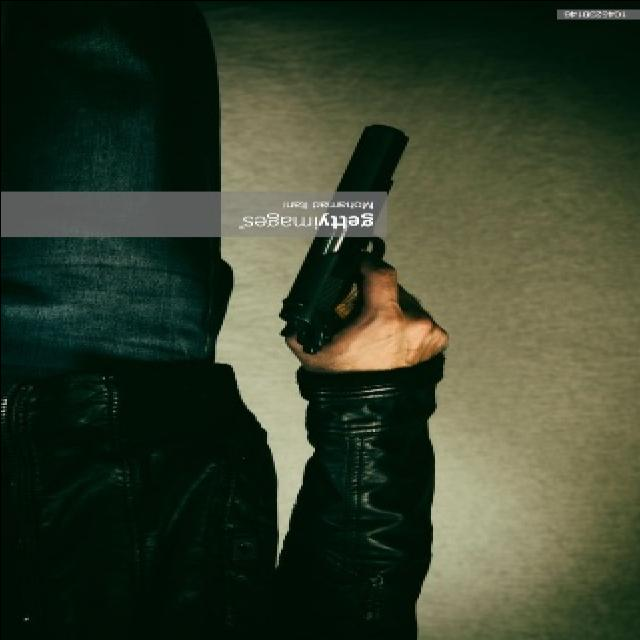handgun: (279, 125, 419, 361)
